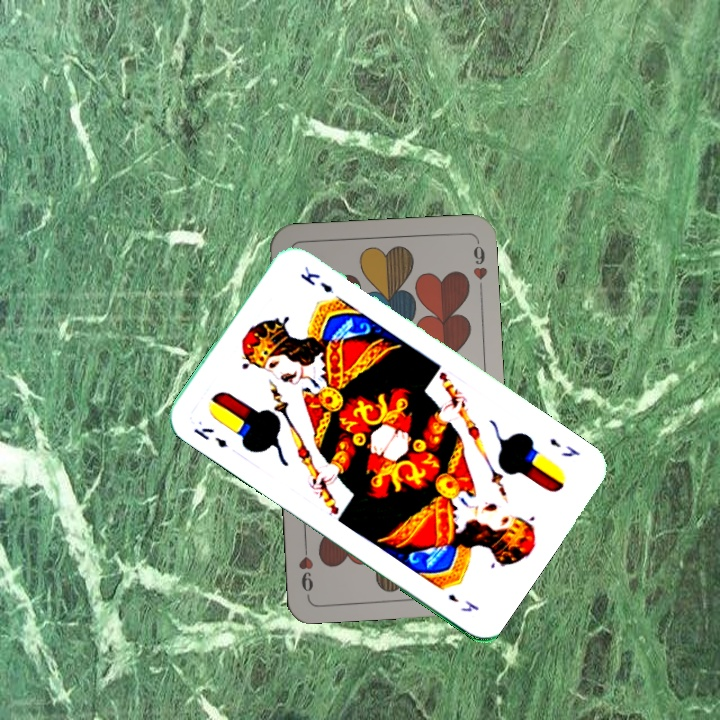EK: (189, 423, 230, 451), (546, 434, 583, 460)
